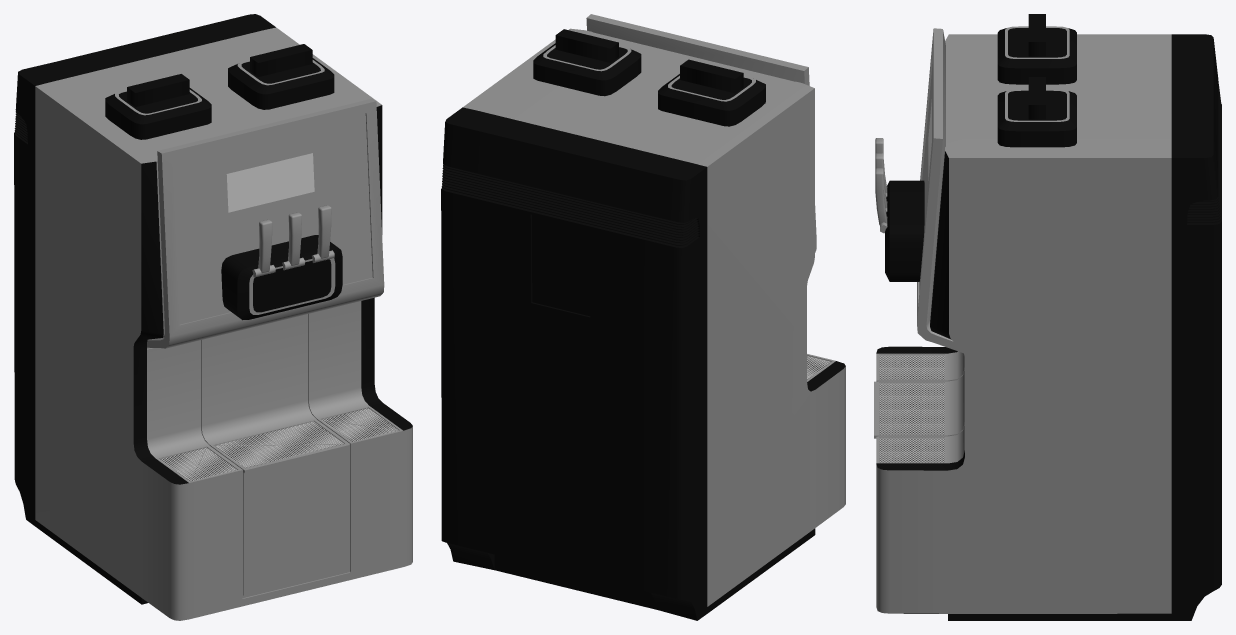
File: kitchen_ice_cream_dispenser.FBX
3 views of the same model, side by side, from view 1: azimuth 30°, elevation 25°; view 2: azimuth 150°, elevation 25°; view 3: azimuth 270°, elevation 25° (orthographic). The views are drawn at different scales.
Visible parts, largest first — view 1: kitchen_ice_cream_dispenser; view 2: kitchen_ice_cream_dispenser; view 3: kitchen_ice_cream_dispenser.
Boxes of the visible parts, x1,y1,x2,y2 form: kitchen_ice_cream_dispenser: (14,14,412,620); kitchen_ice_cream_dispenser: (441,14,845,620); kitchen_ice_cream_dispenser: (874,14,1221,620).
Size of the model in its own units: 53.42 by 101 by 63.53.
